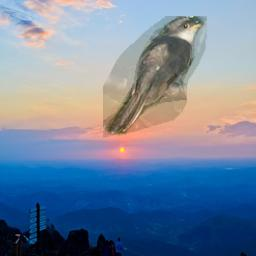Cuckoo: (103, 16, 207, 138)
